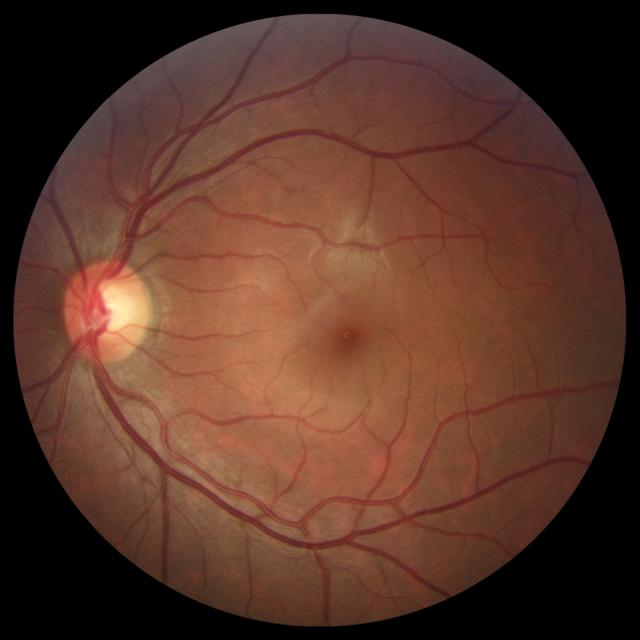OC: (85, 281, 132, 331)
OD: (63, 258, 153, 363)
